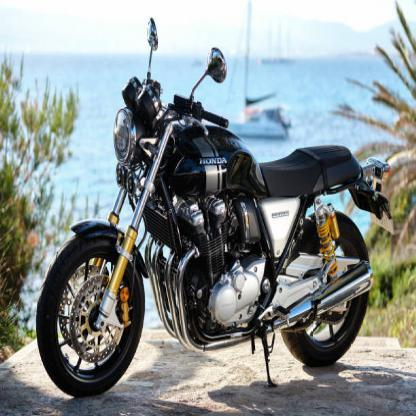Motorcycle: (32, 13, 393, 402)
